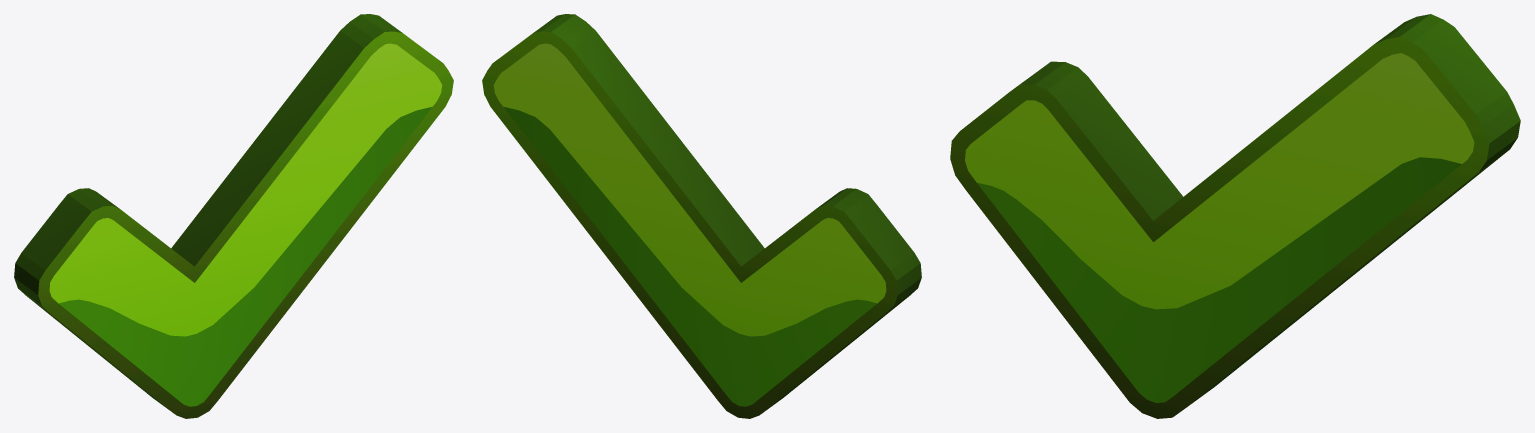
The model's file is toprunCheckmark.glb.
3 renders of one model, left to right at view 1: azimuth 30°, elevation 25°; view 2: azimuth 150°, elevation 25°; view 3: azimuth 330°, elevation 25°, orthographic. The views are drawn at different scales.
Parts seen in each view (by area): view 1: toprunCheckmark; view 2: toprunCheckmark; view 3: toprunCheckmark.
Boxes of the visible parts, x1,y1,x2,y2 form: toprunCheckmark: (14,14,453,418); toprunCheckmark: (482,14,921,418); toprunCheckmark: (950,14,1520,418).
Size of the model in its own units: 8.4 by 6.57 by 0.8426.
Materials: 1 (1 with a texture image).
